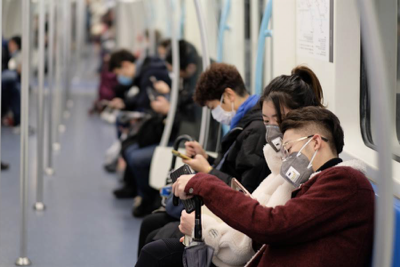with_mask: (279, 139, 311, 187), (261, 112, 285, 154), (205, 102, 235, 126), (112, 69, 130, 86)
